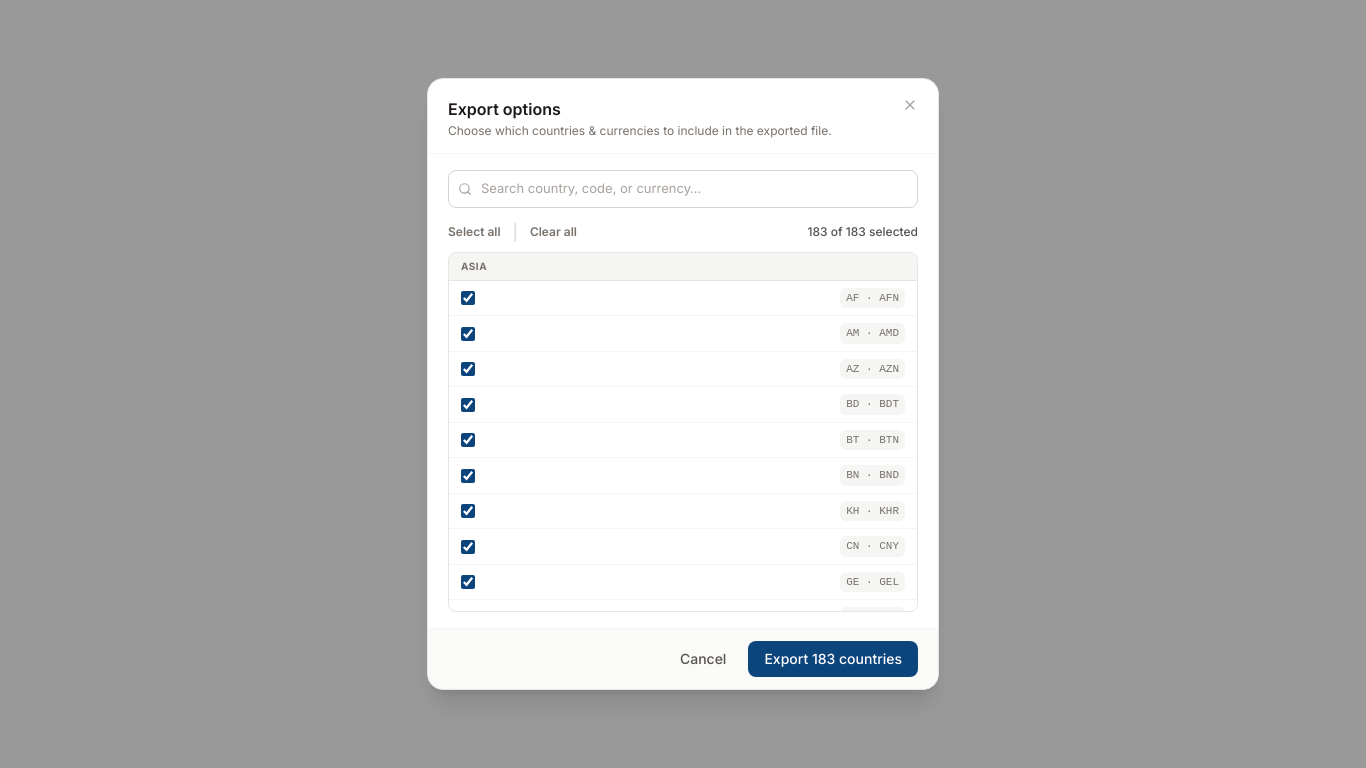
Scenario: ExportOptionsDialog — search › filters by country name (partial, case-insensitive)
Step 1. Type "viet" into the field with placeholder "Search country, code, or currency…" → (683, 189), box [448,170,918,208]
(page scrolled)
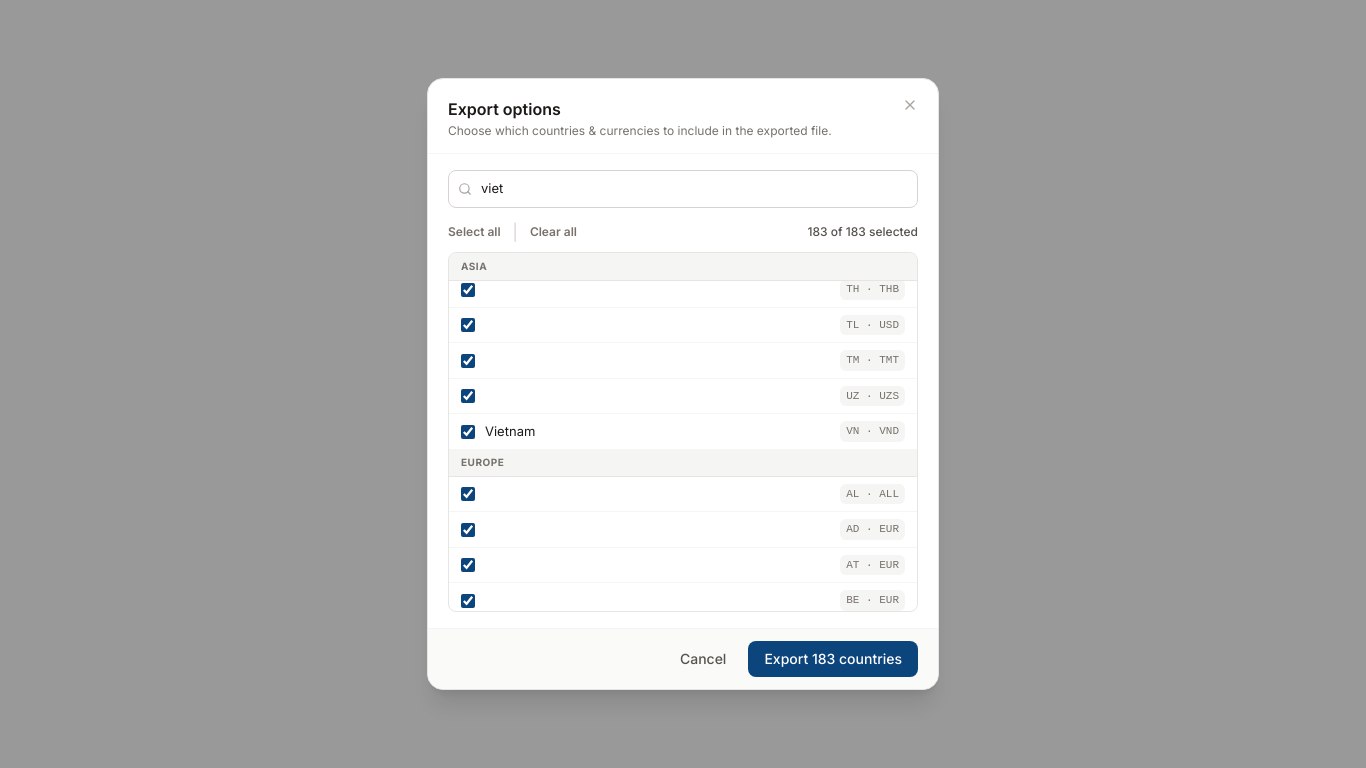
Expected: the text "Vietnam" is shown, [485,423,535,439]
